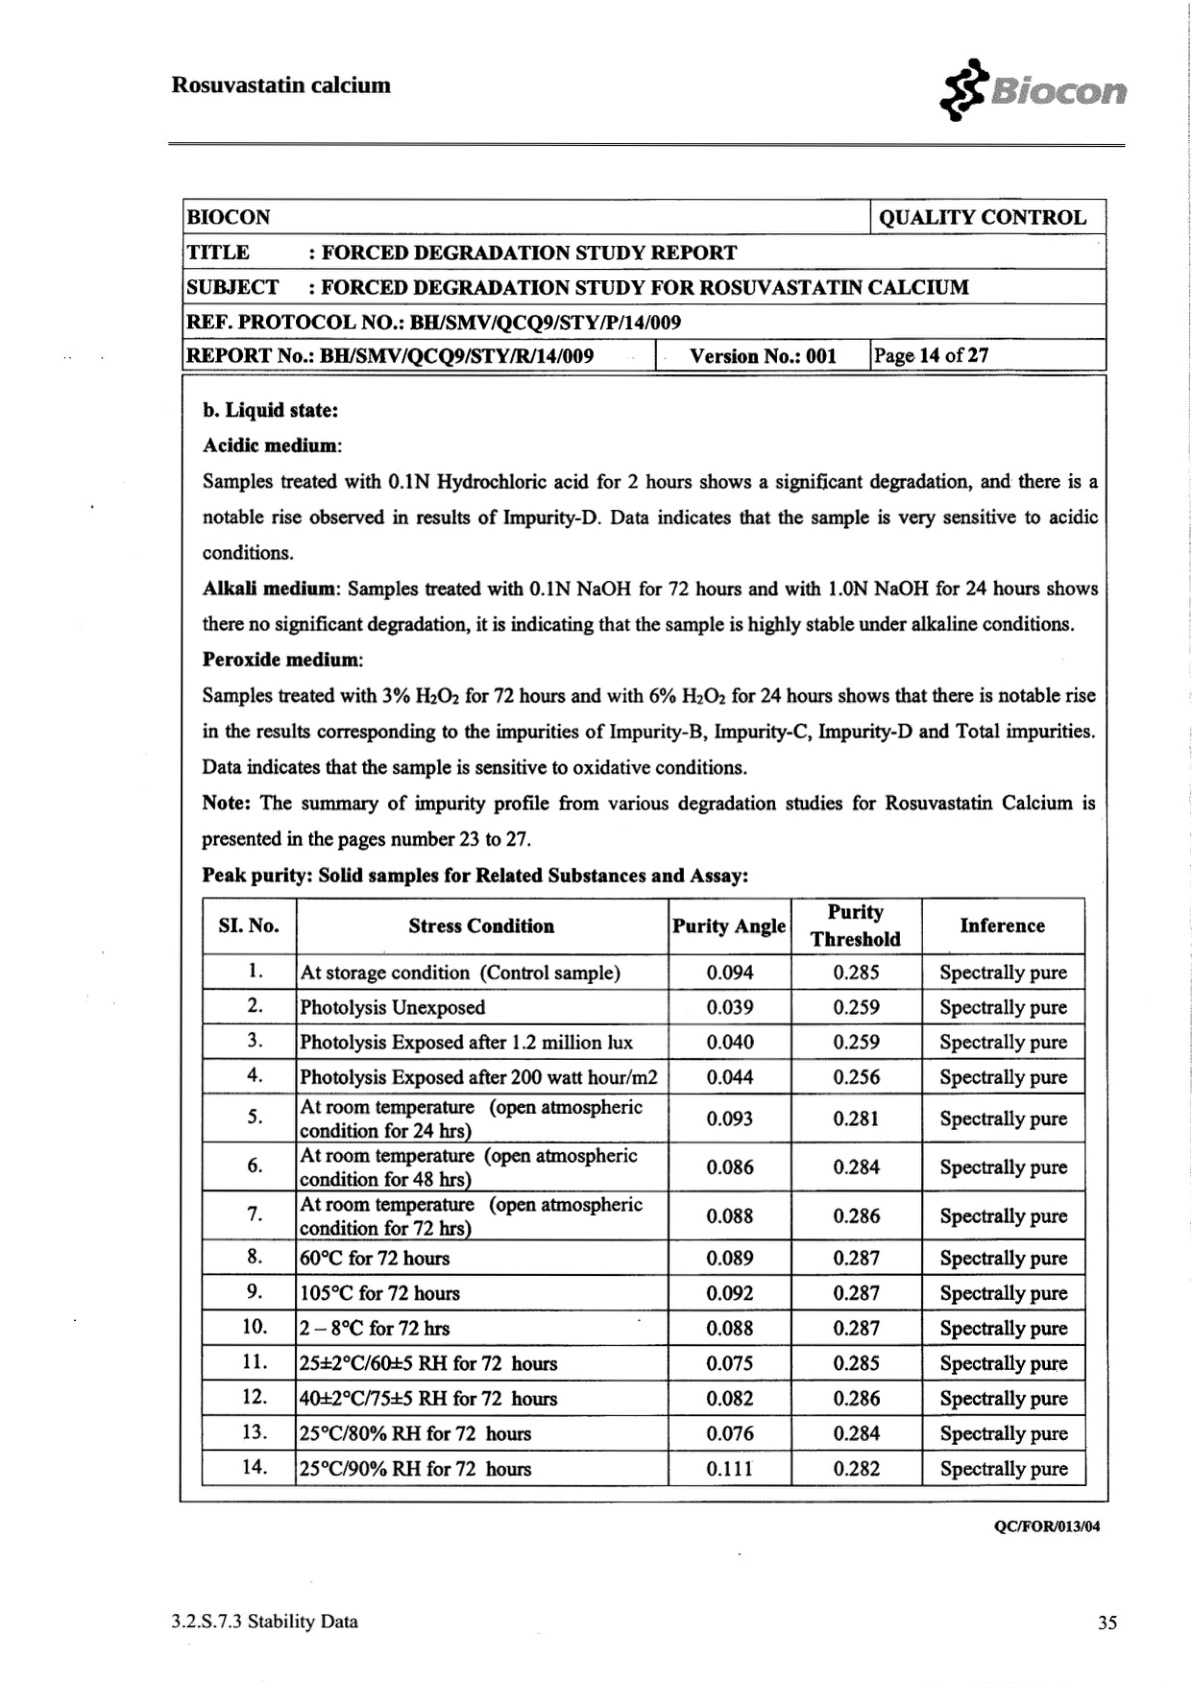full_lined: (200, 896, 1088, 1486)
merged_cells: (181, 197, 1108, 371)
